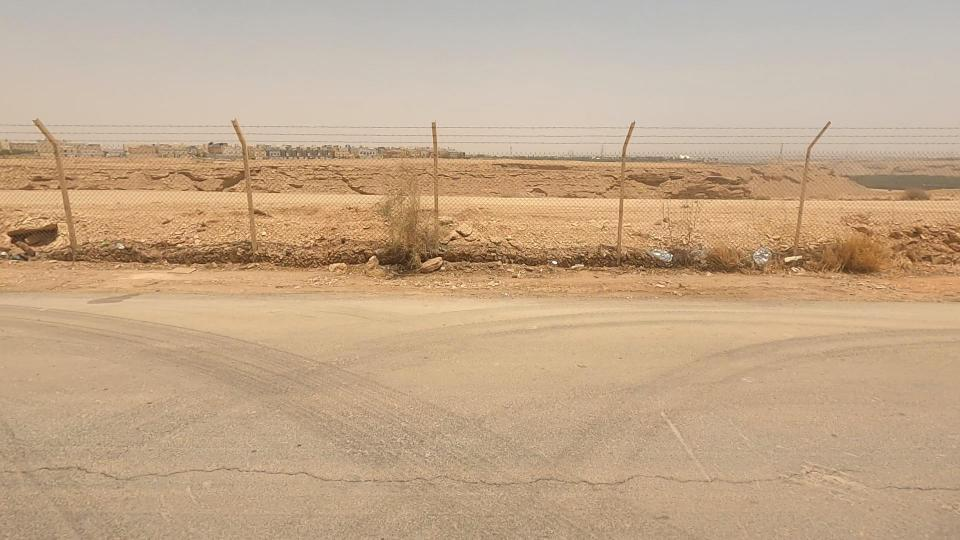GARBAGE: (565, 194, 729, 305), (668, 209, 822, 295)
